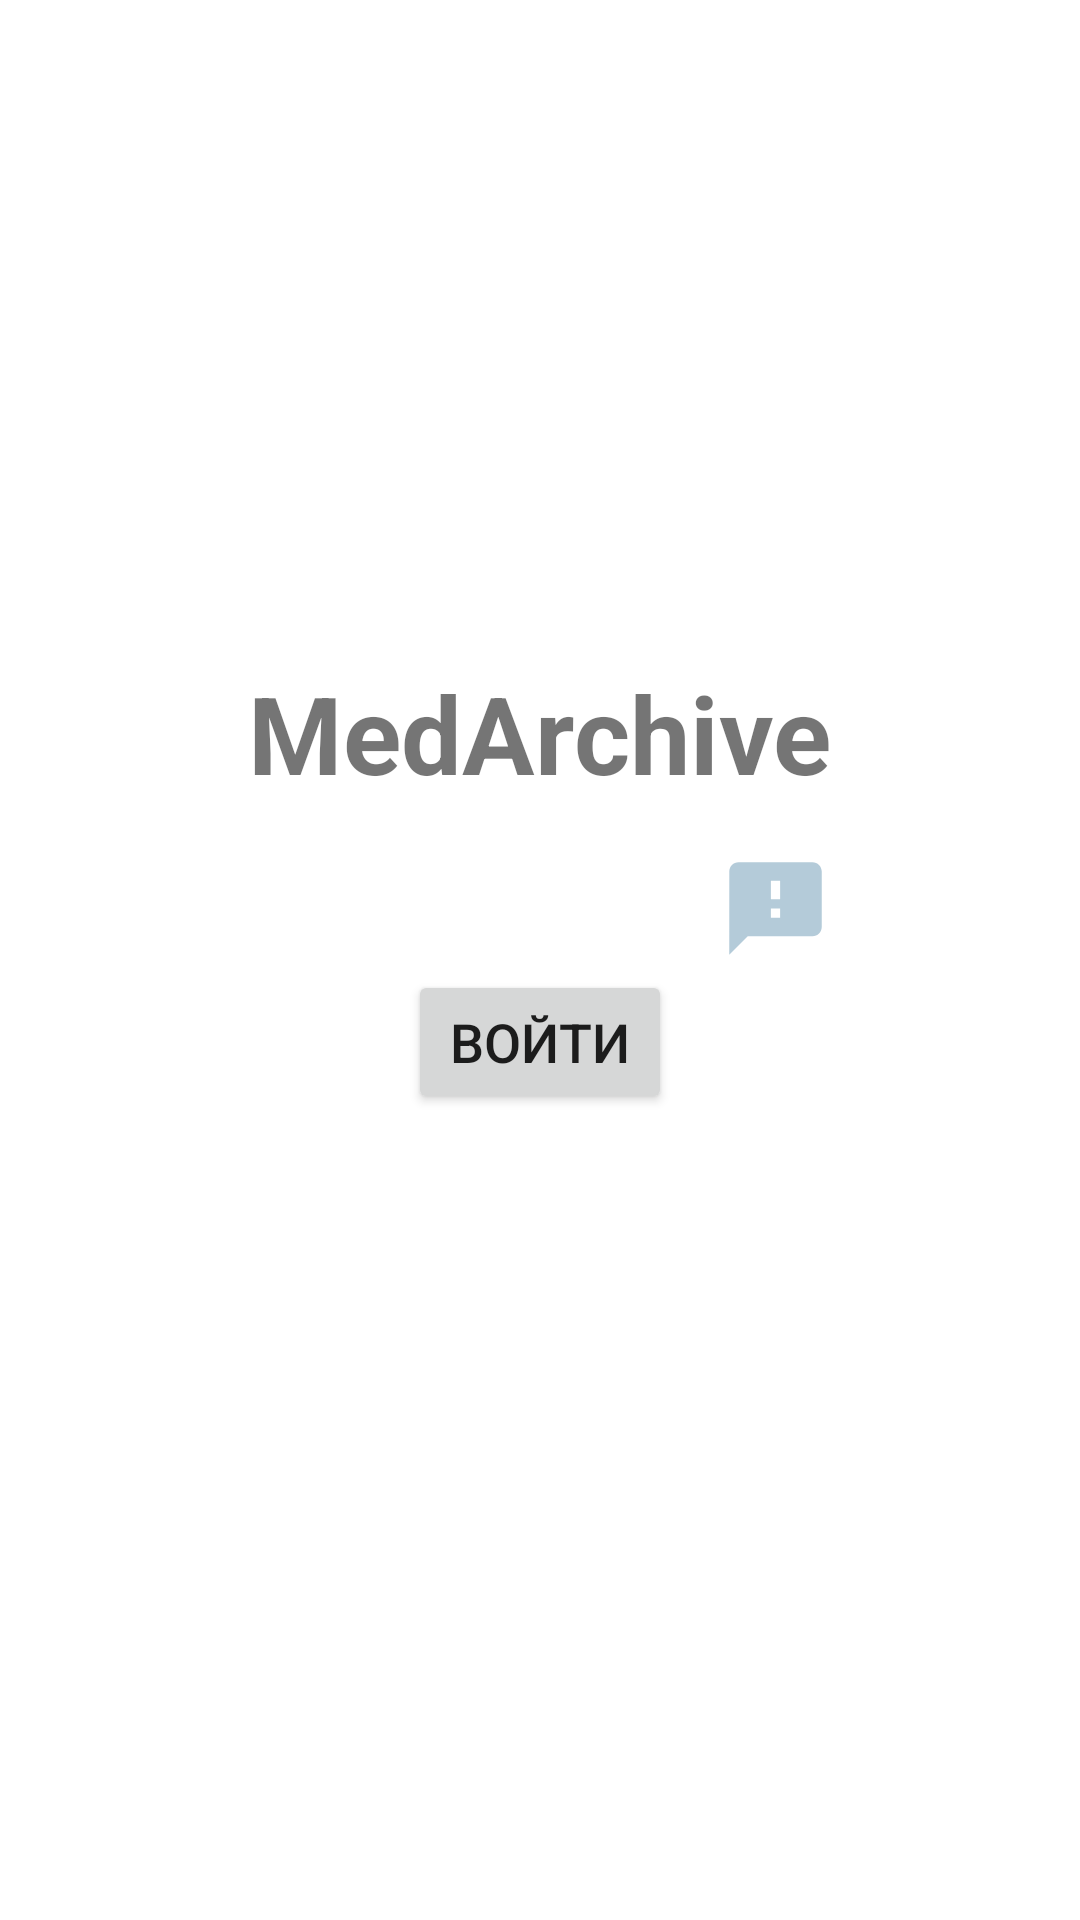

Where icons sit on this 1080 × 1920 app screen, as bbox=[x1, y1, x2, y2]:
hint: bbox=[729, 862, 822, 954]
